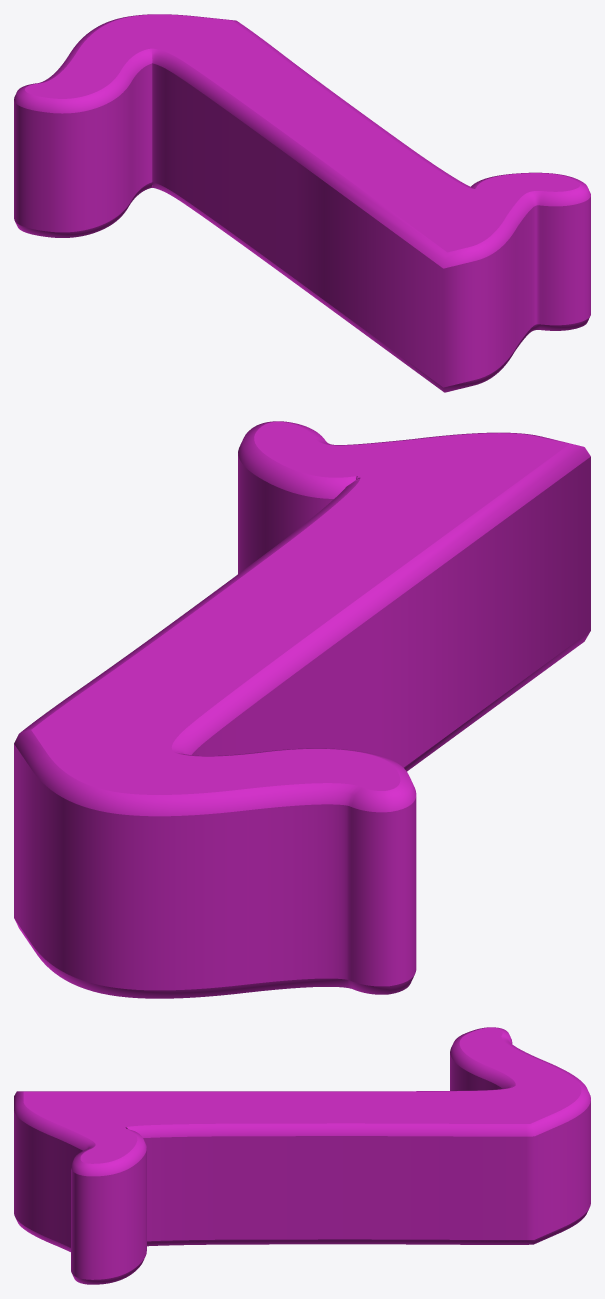
File: Letter_l_Small.fbx
3 renders of one model, top to bottom at view 1: azimuth 30°, elevation 25°; view 2: azimuth 150°, elevation 25°; view 3: azimuth 270°, elevation 25°, orthographic. The views are drawn at different scales.
Parts seen in each view (by area): view 1: Letter_l; view 2: Letter_l; view 3: Letter_l.
Part boxes in pixels (box(x1,y1,x2,y2)): Letter_l: box(14, 14, 590, 392); Letter_l: box(14, 421, 590, 998); Letter_l: box(14, 1027, 590, 1284).
Bounding box in the file's own units: 0.3594 × 0.14 × 0.6071.
